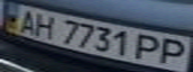1: (112, 28, 133, 57)
3: (90, 25, 115, 54)
7: (54, 17, 81, 46), (72, 20, 96, 50)
A: (12, 7, 42, 34)
H: (30, 11, 60, 39)
P: (154, 37, 190, 66), (133, 32, 166, 62)
